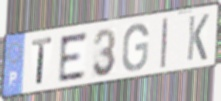3: (91, 26, 118, 79)
E: (58, 29, 89, 84)
G: (121, 22, 151, 73)
I: (159, 16, 169, 71)
K: (186, 13, 211, 63)
T: (31, 36, 54, 88)
